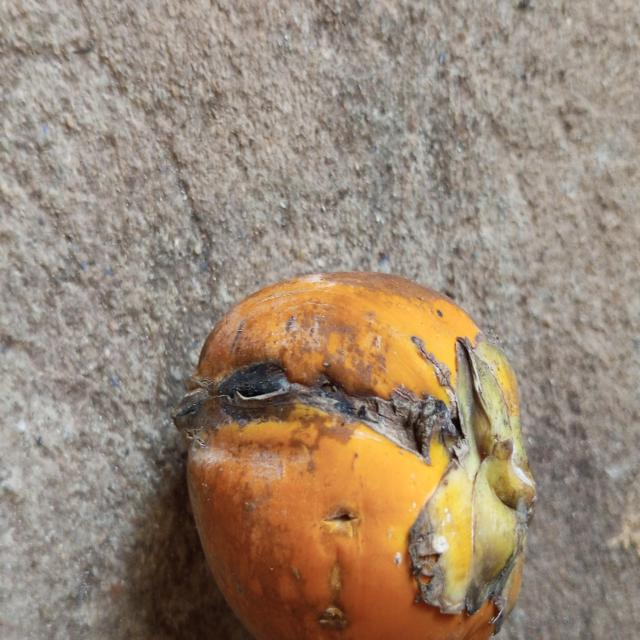damaged: (169, 272, 537, 640)
